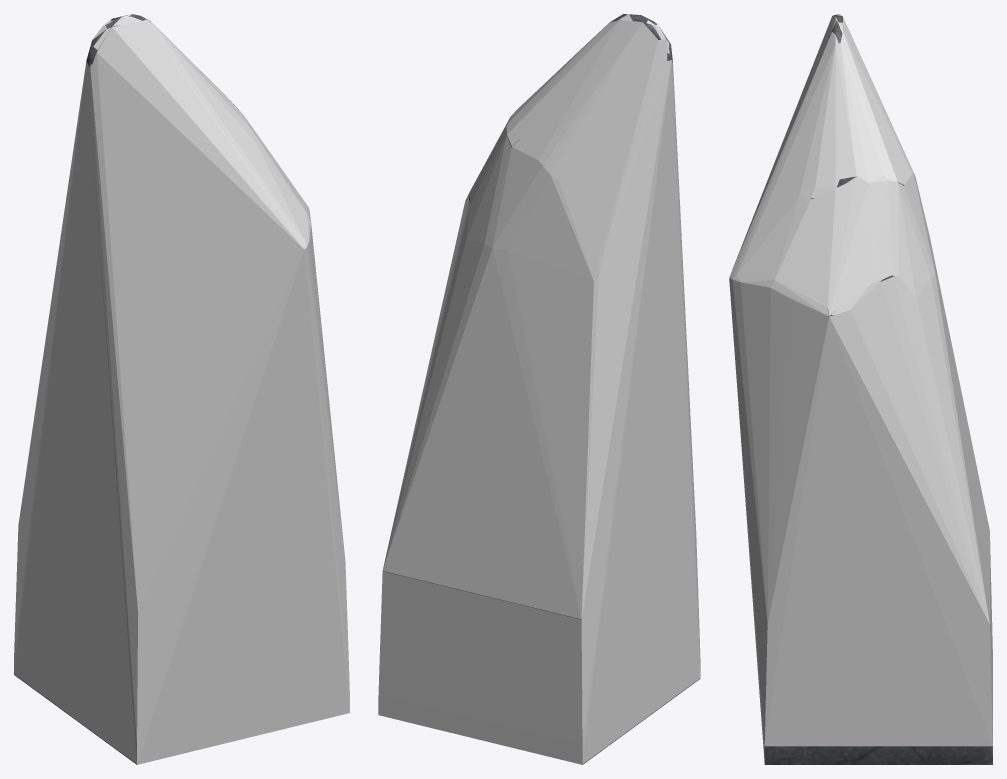
The model's file is statue_mage.low.webp.glb.
The picture shows the model from 3 angles, left to right: view 1: azimuth 30°, elevation 25°; view 2: azimuth 150°, elevation 25°; view 3: azimuth 270°, elevation 25°; orthographic projection. The views are drawn at different scales.
Visible parts, largest first — view 1: COL; view 2: COL; view 3: COL, FRAC_7_l1.
Boxes of the visible parts, x1=… form: COL: x1=14, y1=14, x2=349, y2=764; COL: x1=378, y1=14, x2=700, y2=764; COL: x1=729, y1=14, x2=992, y2=761; FRAC_7_l1: x1=764, y1=746, x2=992, y2=764.
Size of what is drawn, in the model's own units: 1.64 by 5 by 1.8.
Materials: 1 (1 with a texture image).
